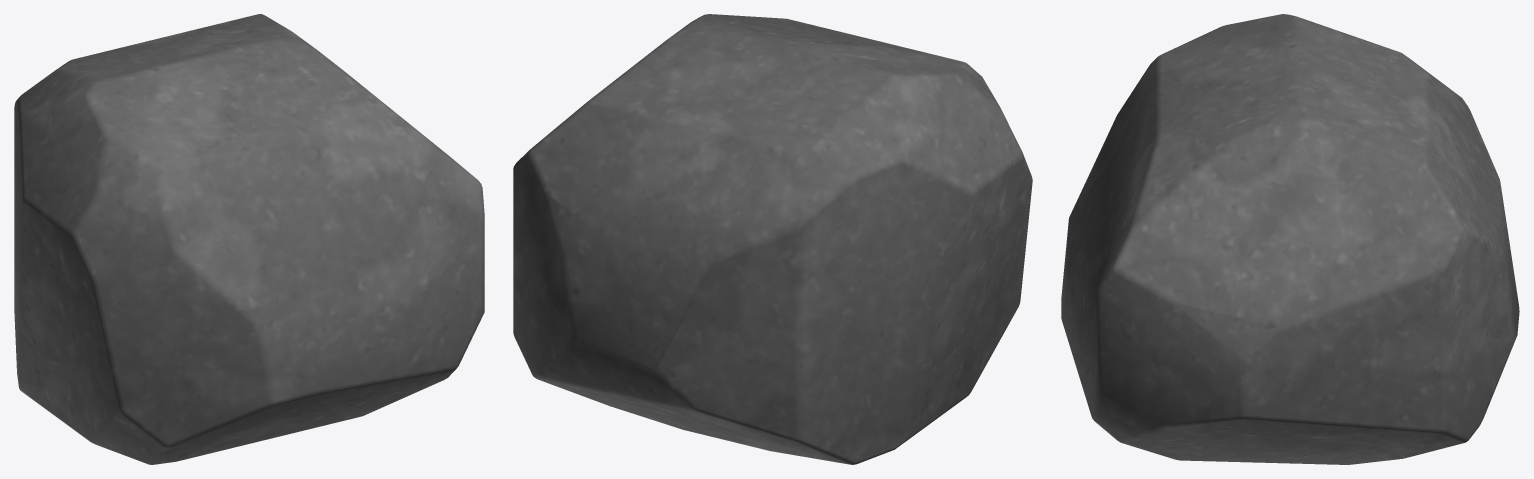
File: rock.glb
The picture shows the model from 3 angles, left to right: view 1: azimuth 30°, elevation 25°; view 2: azimuth 150°, elevation 25°; view 3: azimuth 270°, elevation 25°; orthographic projection. The views are drawn at different scales.
Visible parts, largest first — view 1: Cube; view 2: Cube; view 3: Cube.
Boxes of the visible parts, <box> form: Cube: <box>14,14,484,464</box>; Cube: <box>513,14,1032,464</box>; Cube: <box>1061,14,1519,464</box>.
Bounding box in the file's own units: 1.96 × 1.61 × 1.87.
1 material, 1 textured.
